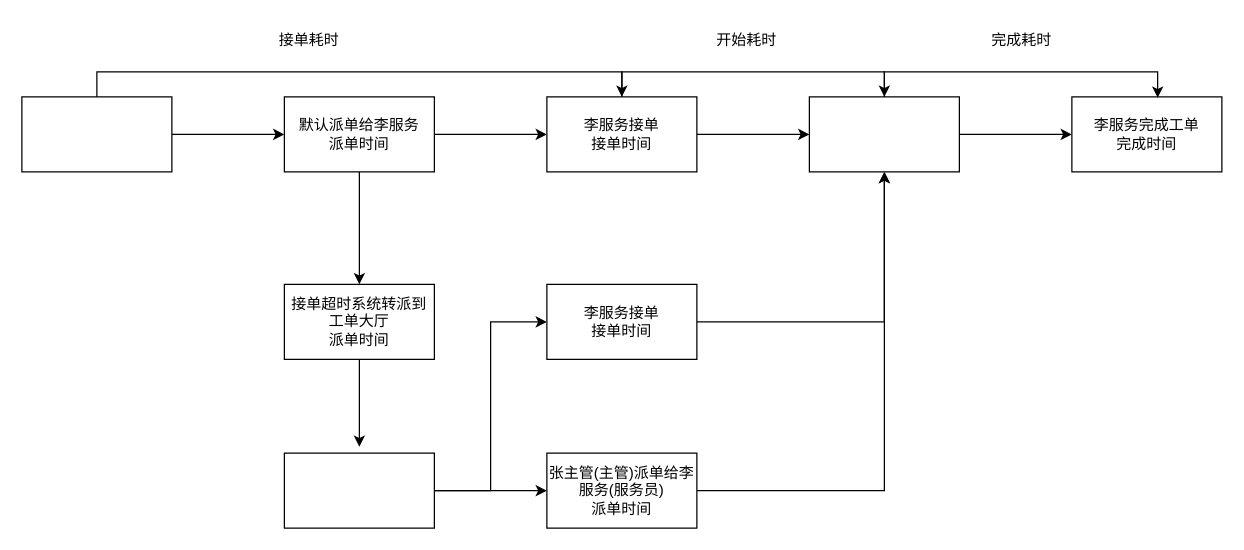
The diagram is 1244 pixels wide and 550 high, and some of its shapes have lost their labels. Here are the shapes that lost their labels. From the top down, the centre of each, then its label:
point 96,134: 客人（电视）下单 下单时间
point 883,134: 李服务开始工单 开始时间
point 358,490: 接单超时系统预警给张主管 预警时间
